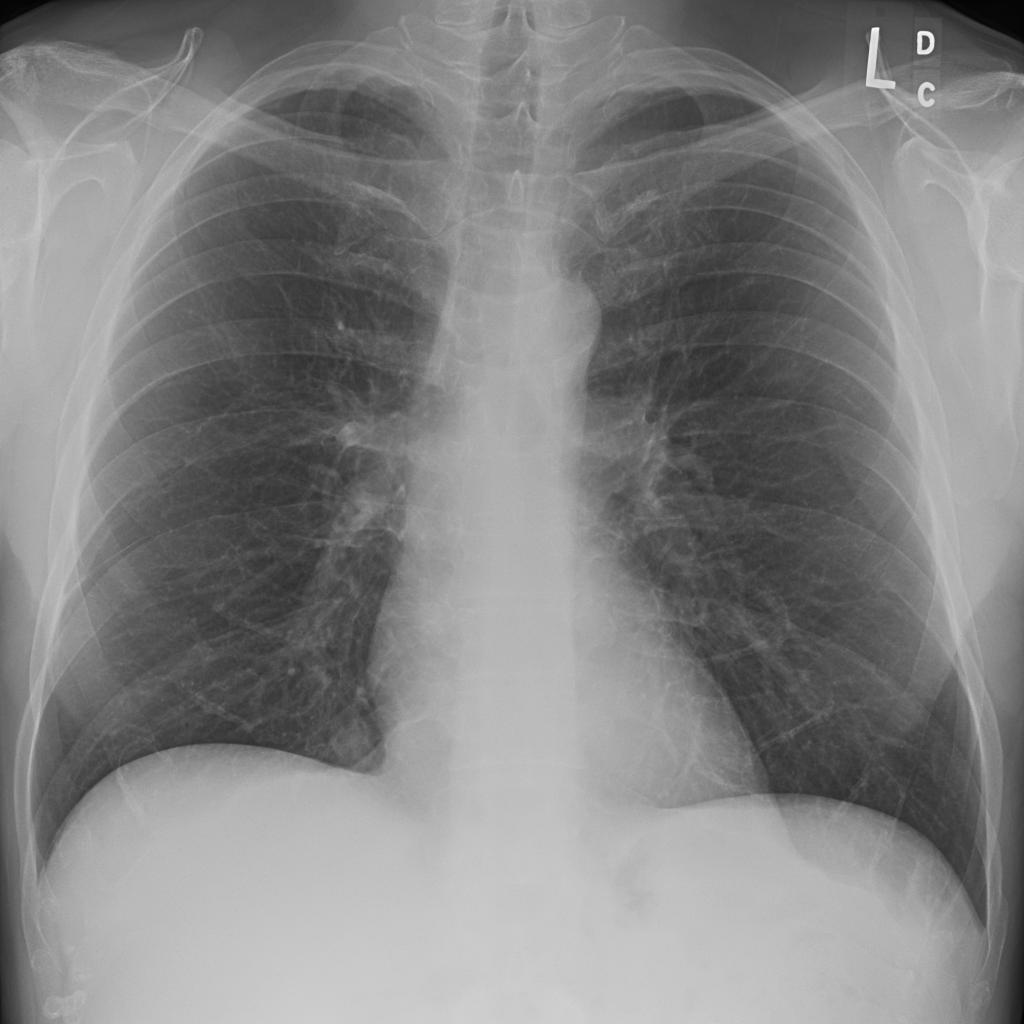Nodule: (166, 364, 194, 389)
